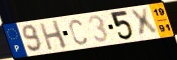3: (88, 14, 111, 45)
5: (108, 9, 135, 41)
9: (21, 23, 45, 53)
C: (68, 18, 89, 46)
H: (38, 19, 69, 52)
X: (128, 7, 160, 39)
